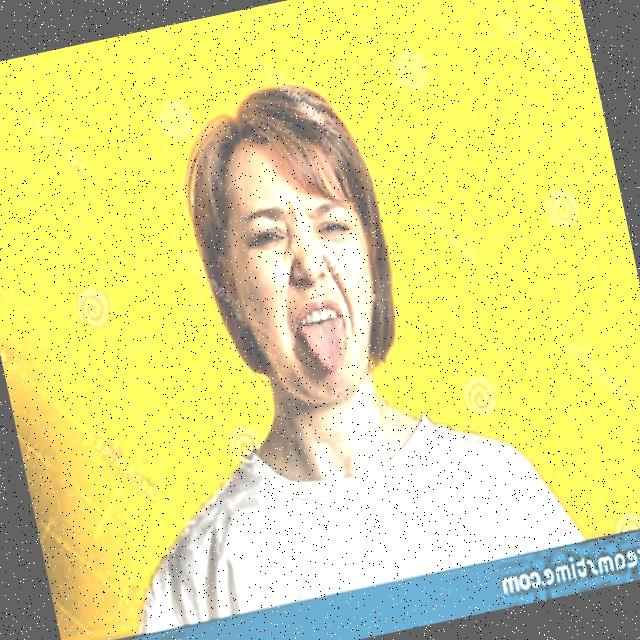disgust: (155, 52, 453, 436)
